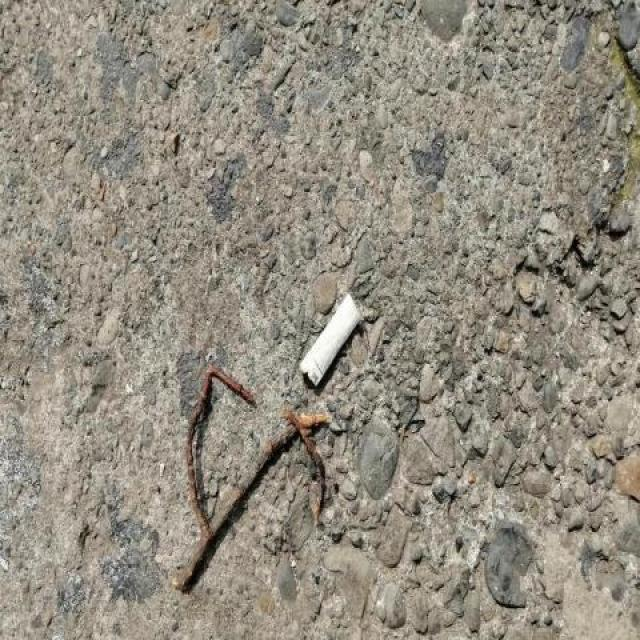non-organic waste: (295, 286, 366, 394)
